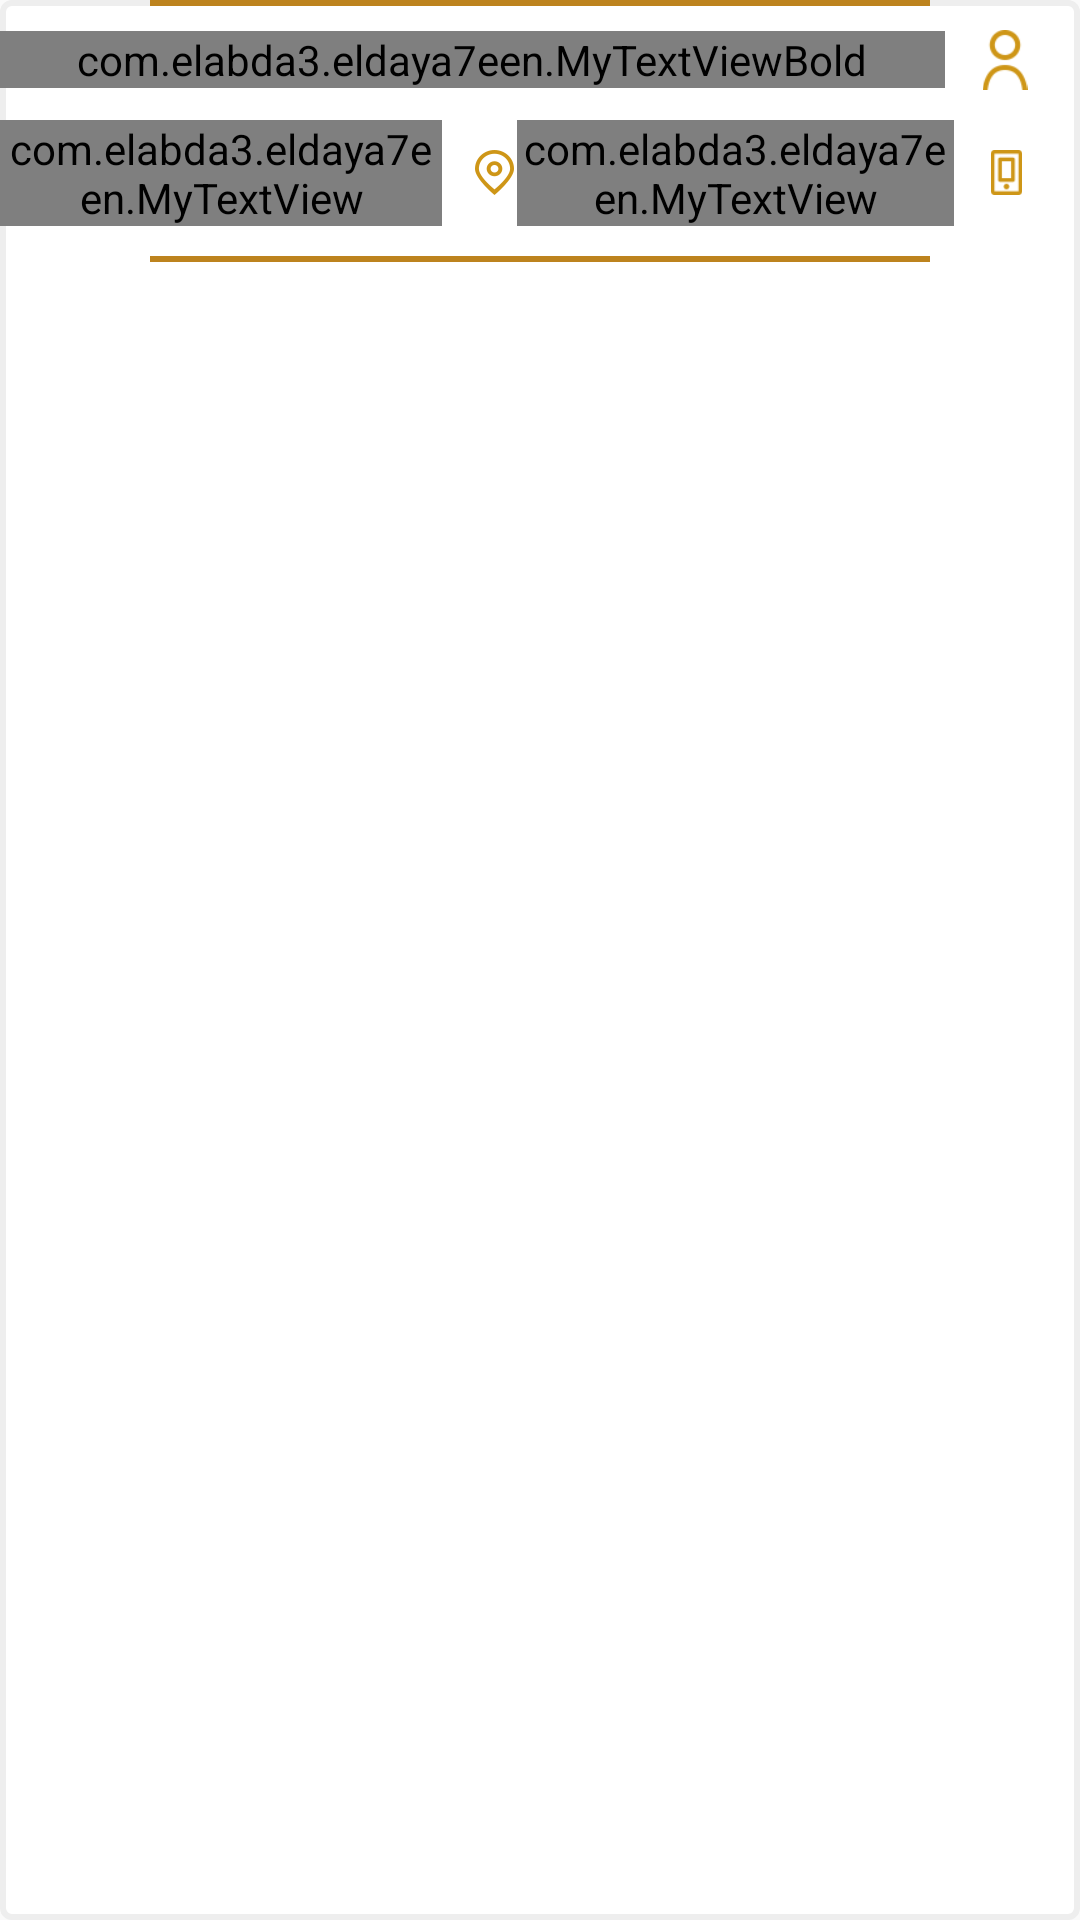

Named icons in this screenshot (1080×1920) and their bounding boxes, Rect(x1, y1, x2, y2):
loc: Rect(475, 150, 514, 195)
phone: Rect(991, 150, 1022, 195)
user: Rect(983, 30, 1028, 90)
